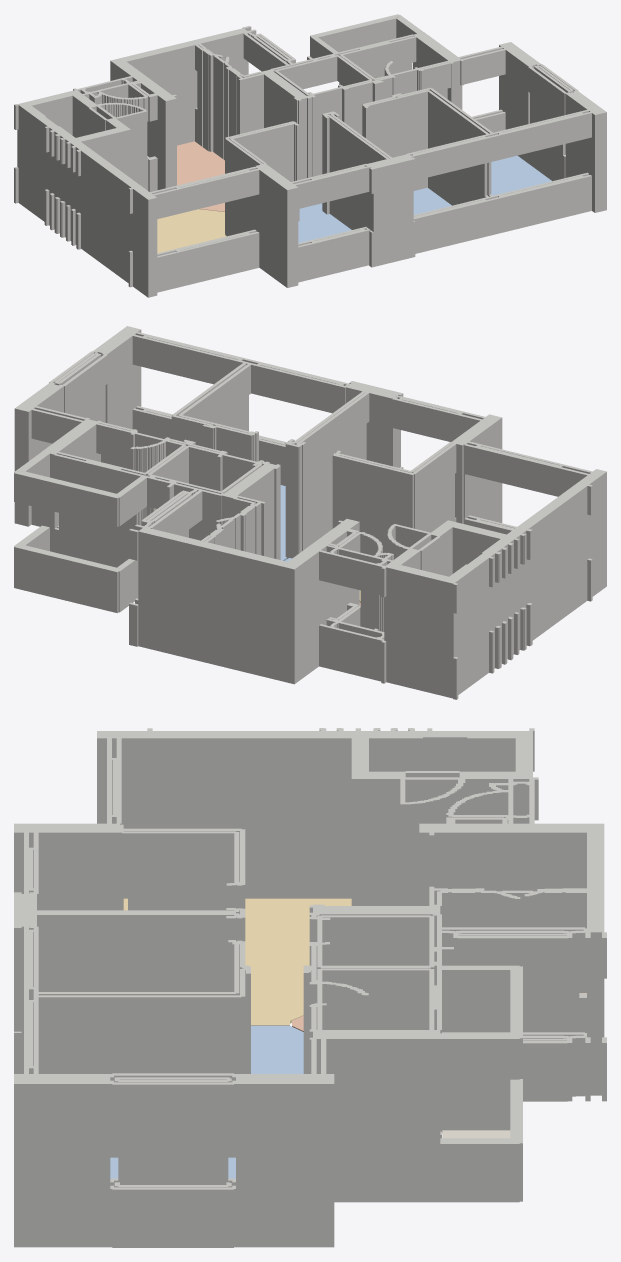
The picture shows the model from 3 angles, top to bottom: view 1: azimuth 30°, elevation 25°; view 2: azimuth 150°, elevation 25°; view 3: azimuth 270°, elevation 25°; orthographic projection. The views are drawn at different scales.
Parts seen in each view (by area): view 1: walls, room:living:8, room:kitchen:0, room:bedroom:11, room:bedroom:9, room:bedroom:10; view 2: walls; view 3: walls, room:living:8, room:bedroom:9.
Boxes of the visible parts, left/top/right/bottom form: walls: left=14, top=14, right=606, bottom=297; room:living:8: left=157, top=209, right=226, bottom=253; room:kitchen:0: left=177, top=141, right=224, bottom=211; room:bedroom:11: left=491, top=155, right=551, bottom=195; room:bedroom:9: left=298, top=203, right=351, bottom=242; room:bedroom:10: left=413, top=187, right=451, bottom=214; walls: left=14, top=326, right=606, bottom=699; walls: left=14, top=728, right=606, bottom=1247; room:living:8: left=123, top=898, right=351, bottom=1025; room:bedroom:9: left=251, top=1025, right=303, bottom=1073.
Size of the model in its own units: 13.1 by 2.8 by 9.21.
